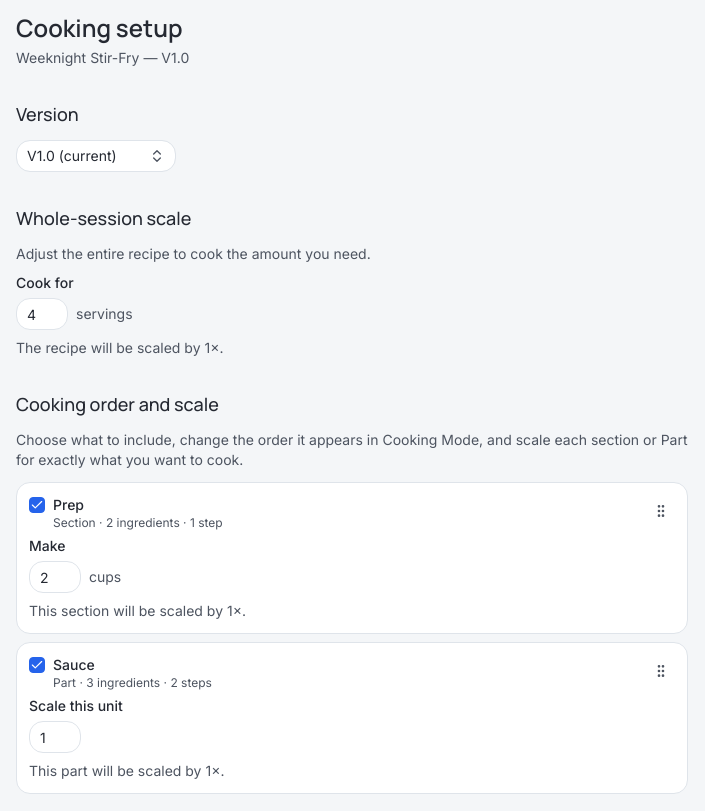
Scenario: CookingSetup — starting a session › disables Start cooking once every unit is excluded
What coordinates should you click on to do the following:
click the checkbox named "Include Prep in this cooking session"
I would click on:
 (37, 505)
Its box is [29,497,45,513].
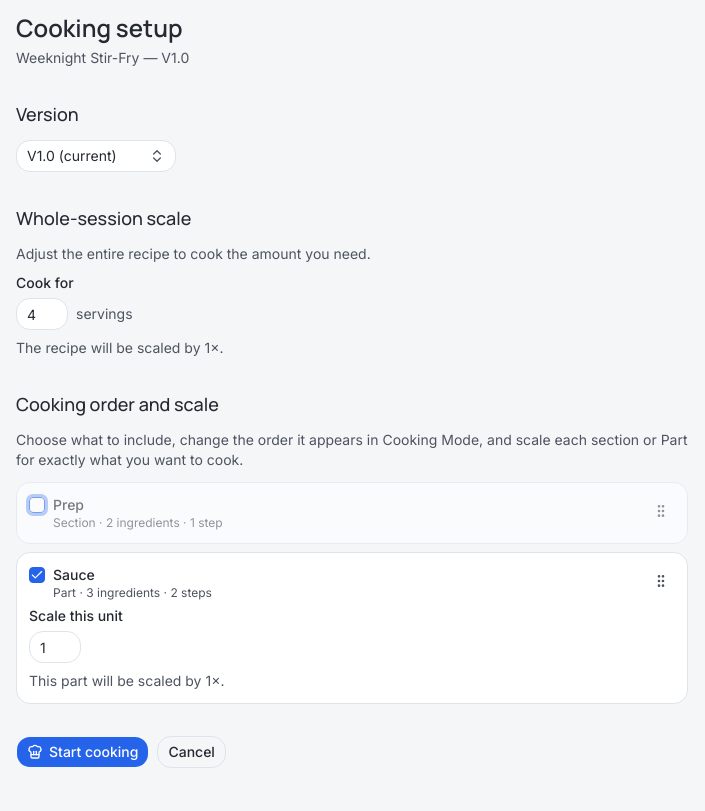
What coordinates should you click on to do the following:
click the checkbox named "Include Sauce in this cooking session"
I would click on:
 (37, 575)
Its box is [29,567,45,583].
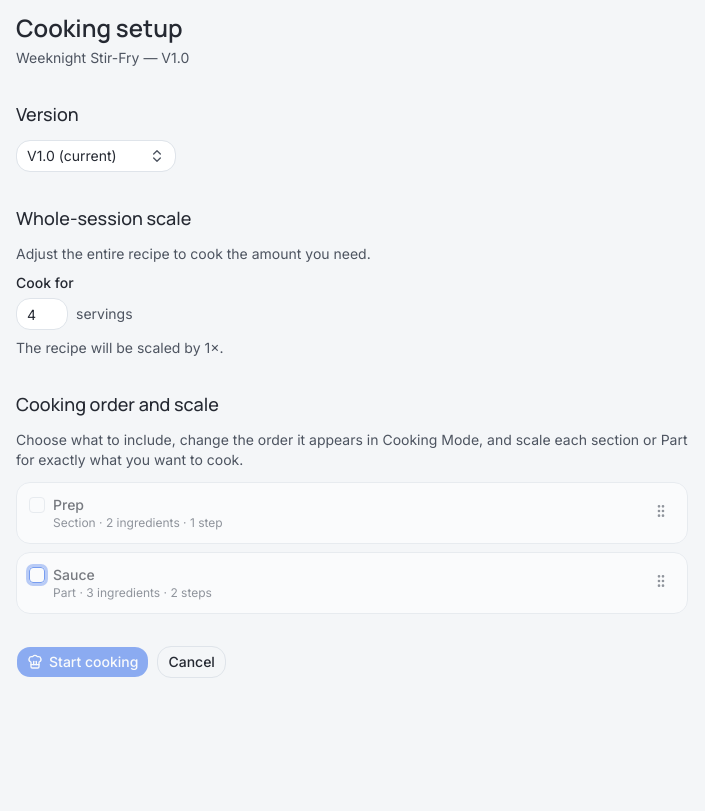
Result: the button "Start cooking" is disabled at [16,646,149,678]
